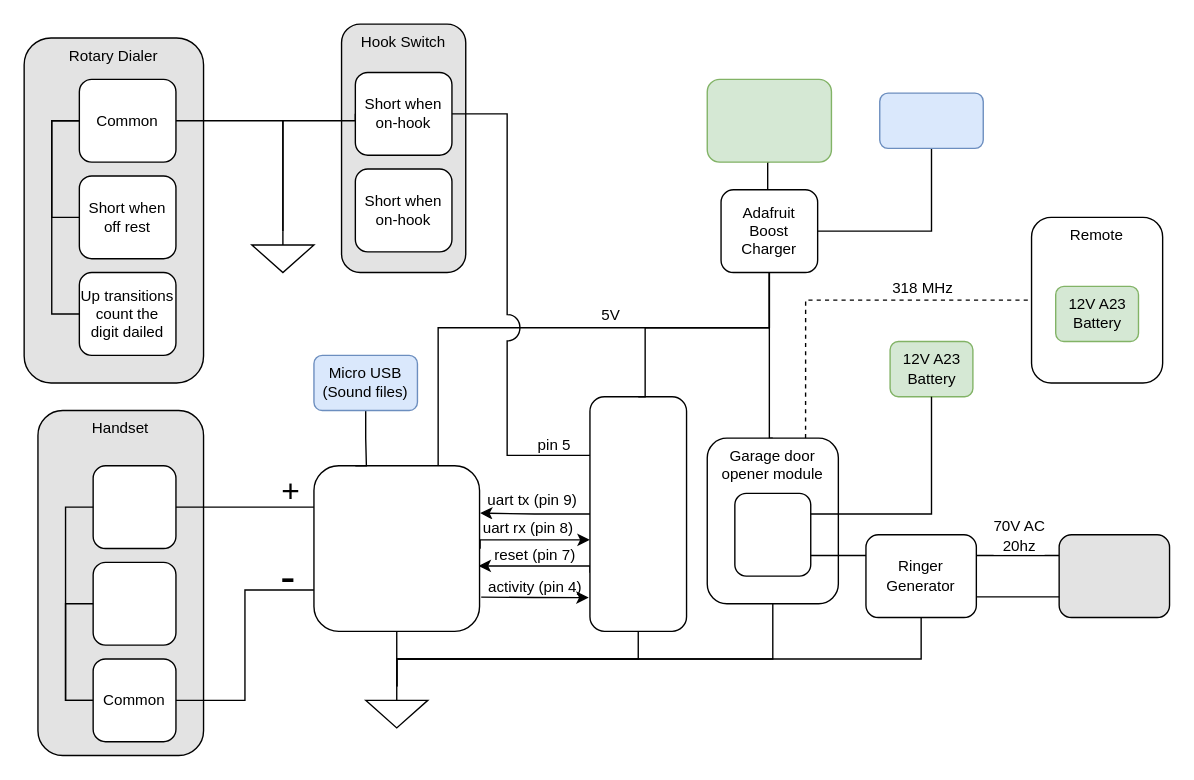
Image size: 1194x780. Some labels were removed from this diagram. The shapes that lost their labels are listed below. From the top down, each one's centre as x and y in pixels, then its label:
the point at 768,120: LiPo battery
the point at 930,120: Micro USB (Charging)
the point at 134,506: Speaker
the point at 638,513: Arduino
the point at 396,547: Sound Player
the point at 772,534: Signal Relay
the point at 1114,575: Ringer
the point at 134,603: Mic
